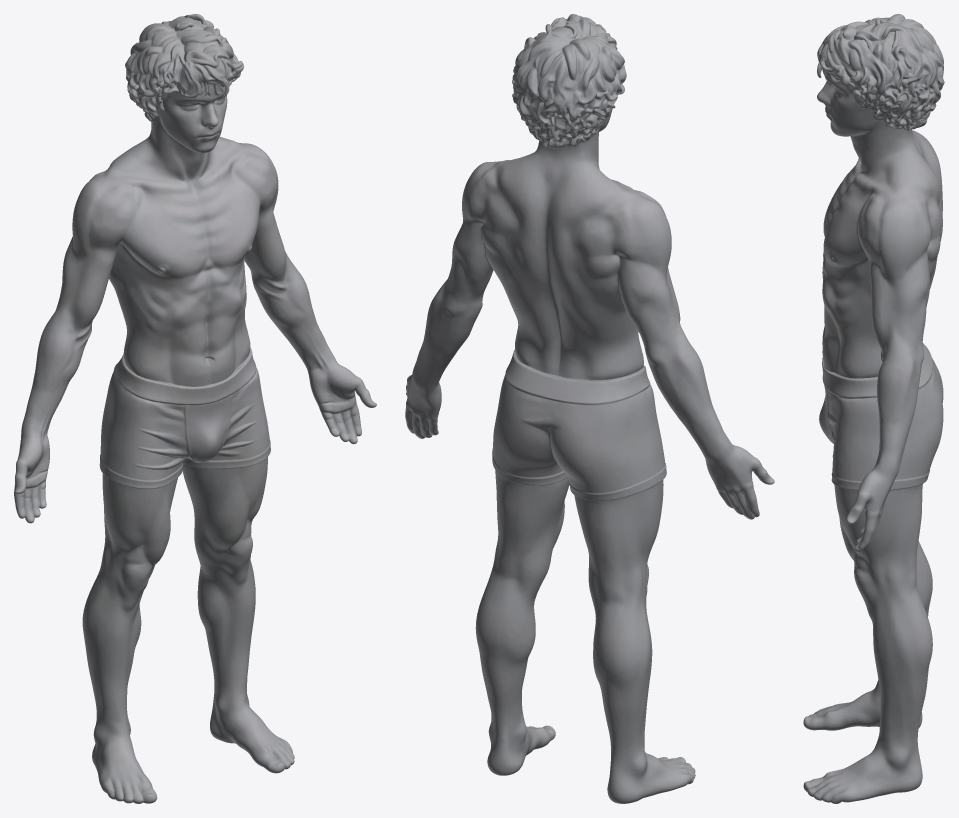
File: character.glb
The picture shows the model from 3 angles, left to right: view 1: azimuth 30°, elevation 25°; view 2: azimuth 150°, elevation 25°; view 3: azimuth 270°, elevation 25°; orthographic projection.
Size of the model in its own units: 0.9718 by 1.9 by 0.3258.
1 material, 1 textured.
